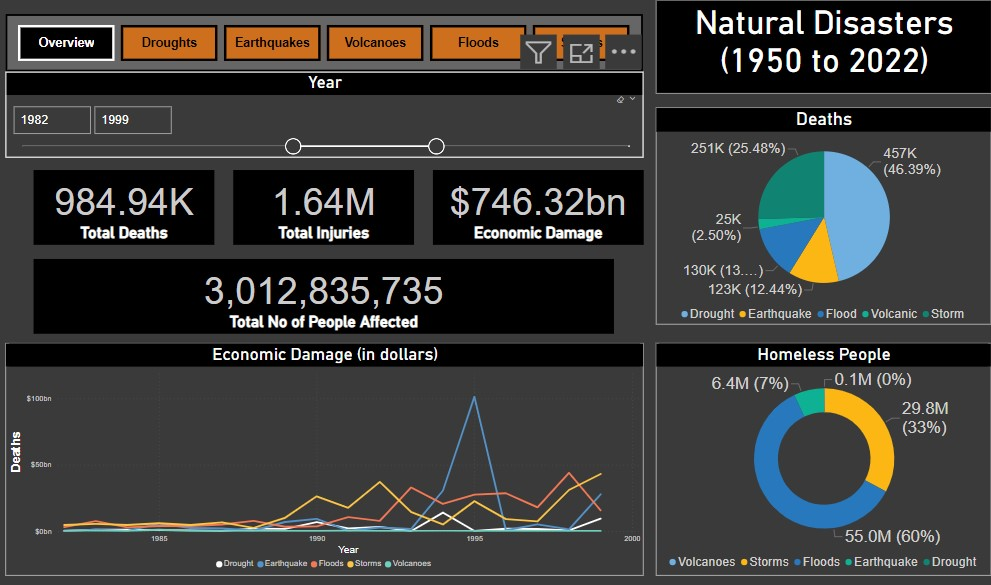

The page's visual inventory and layout, read from the dashboard file:
{"tool":"powerbi","page":{"name":"Overview","canvas":[1650,950],"ordinal":0},"visuals":[{"type":"shape","box":[19.6,23.5,1021.6,92.2],"z":0,"group":"g1"},{"type":"group","id":"g1","title":"Group 1","box":[19.6,23.5,1021.6,92.2],"z":0},{"type":"pageNavigator","box":[39.2,41.1,980.4,58.8],"z":1000,"group":"g1"},{"type":"pieChart","title":"Deaths","fields":{"Y":["Sum(Sheet1.Drought Deaths)","Sum(Sheet1.Earthquake Deaths)","Sum(Sheet1.Flood Deaths)","Sum(Sheet1.Volcanic Deaths)","Sum(Sheet1.Storm Deaths)"]},"box":[1062.5,172.5,537.5,347.5],"z":1000},{"type":"lineChart","title":"Economic Damage (in dollars)","fields":{"Category":["Sheet1.Year"],"Y":["Sum(Sheet1.Economic Damage from Drought)","Sum(Sheet1.Economic Damage from Earthquake)","Sum(Sheet1.Economic Damage from Floods)","Sum(Sheet1.Economic Damage from Storms)","Sum(Sheet1.Economic Damage from Volcanoes)"]},"box":[20,549.4,1022.5,372.5],"z":2000},{"type":"slicer","title":"Year","fields":{"Values":["Sheet1.Year"]},"box":[20,115,1022.5,140],"z":3000},{"type":"donutChart","title":"Homeless People","fields":{"Y":["Sum(Sheet1.Homeless people from Volcanoes)","Sum(Sheet1.Homeless People from Storms)","Sum(Sheet1.Homeless people from Floods)","Sum(Sheet1.Homeless People from Earthquake)","Sum(Sheet1.Homeless People from Drought)"]},"box":[1062.5,549.4,537.5,372.5],"z":4000},{"type":"card","fields":{"Values":["Sum(Sheet1.Column)"]},"box":[64,272.5,290,120],"z":5000},{"type":"card","fields":{"Values":["Sum(Sheet1.Column 2)"]},"box":[384,272.5,290,120],"z":6000},{"type":"card","fields":{"Values":["Sum(Sheet1.Column 3)"]},"box":[705,272.5,337.5,120],"z":7000},{"type":"card","fields":{"Values":["Sum(Sheet1.Column 4)"]},"box":[65,415,930,120],"z":8000},{"type":"textbox","box":[1063,0,538,150],"z":9000}]}

Visuals, with their boxes in screenshot pixels (x1, y1, x2, y2), scaled from the page's 1650x950 canvas onto the 991x585 screenshot:
shape: (x1=12, y1=14, x2=625, y2=71)
"Group 1" group: (x1=12, y1=14, x2=625, y2=71)
pageNavigator: (x1=24, y1=25, x2=612, y2=62)
"Deaths" pieChart: (x1=638, y1=106, x2=961, y2=320)
"Economic Damage (in dollars)" lineChart: (x1=12, y1=338, x2=626, y2=568)
"Year" slicer: (x1=12, y1=71, x2=626, y2=157)
"Homeless People" donutChart: (x1=638, y1=338, x2=961, y2=568)
card - Sum(Sheet1.Column): (x1=38, y1=168, x2=213, y2=242)
card - Sum(Sheet1.Column 2): (x1=231, y1=168, x2=405, y2=242)
card - Sum(Sheet1.Column 3): (x1=423, y1=168, x2=626, y2=242)
card - Sum(Sheet1.Column 4): (x1=39, y1=256, x2=598, y2=329)
textbox: (x1=638, y1=0, x2=962, y2=92)
